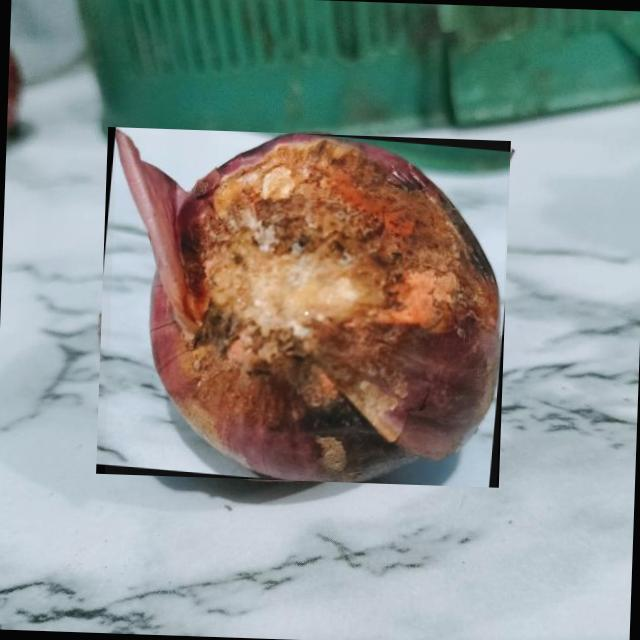rotten: (116, 129, 500, 482)
